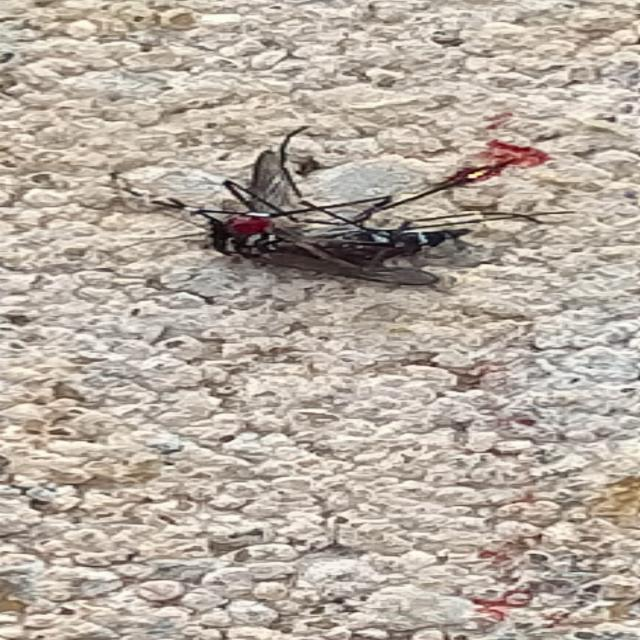albopictus: (76, 127, 570, 289)
